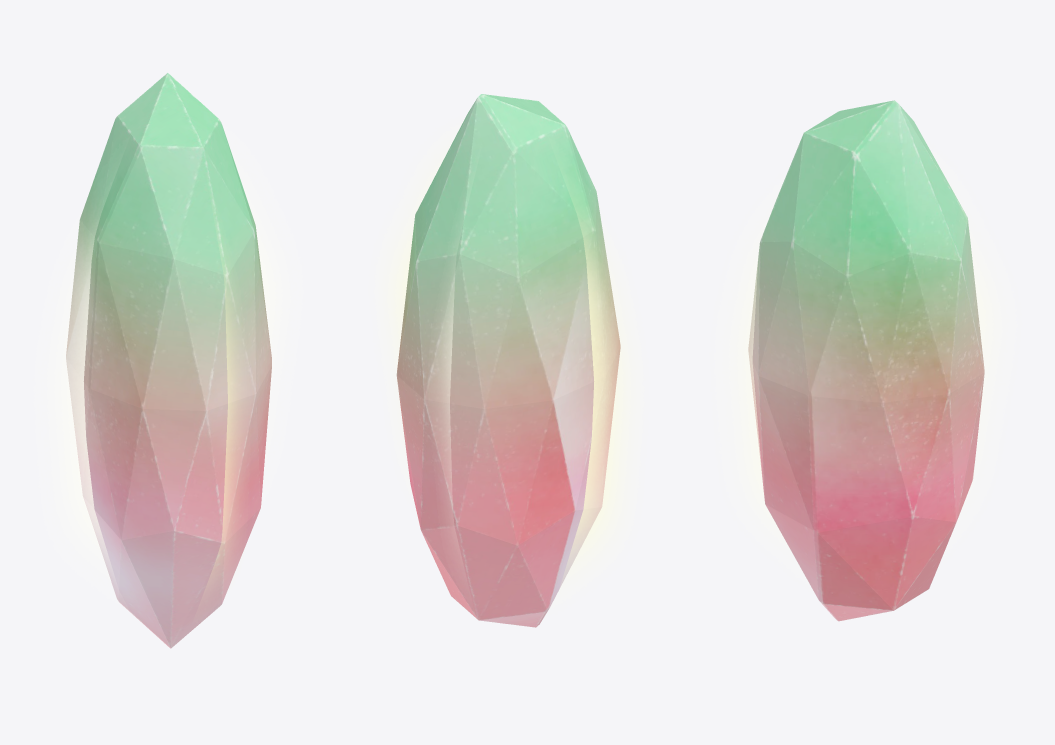
Rendered from gem_H.glb.
3 views of the same model, side by side, from view 1: azimuth 30°, elevation 25°; view 2: azimuth 150°, elevation 25°; view 3: azimuth 270°, elevation 25° (orthographic). The views are drawn at different scales.
Visible parts, largest first — view 1: H, light-H; view 2: H, light-H; view 3: H, light-H.
Part boxes in pixels (x1,y1,x2,y2): H: [66, 73, 271, 648]; light-H: [47, 156, 290, 585]; H: [396, 94, 620, 627]; light-H: [387, 156, 630, 583]; H: [748, 100, 984, 621]; light-H: [728, 219, 1002, 551].
Size of the model in its own units: 2.88 by 5.19 by 2.88.
2 materials, 2 textured.
